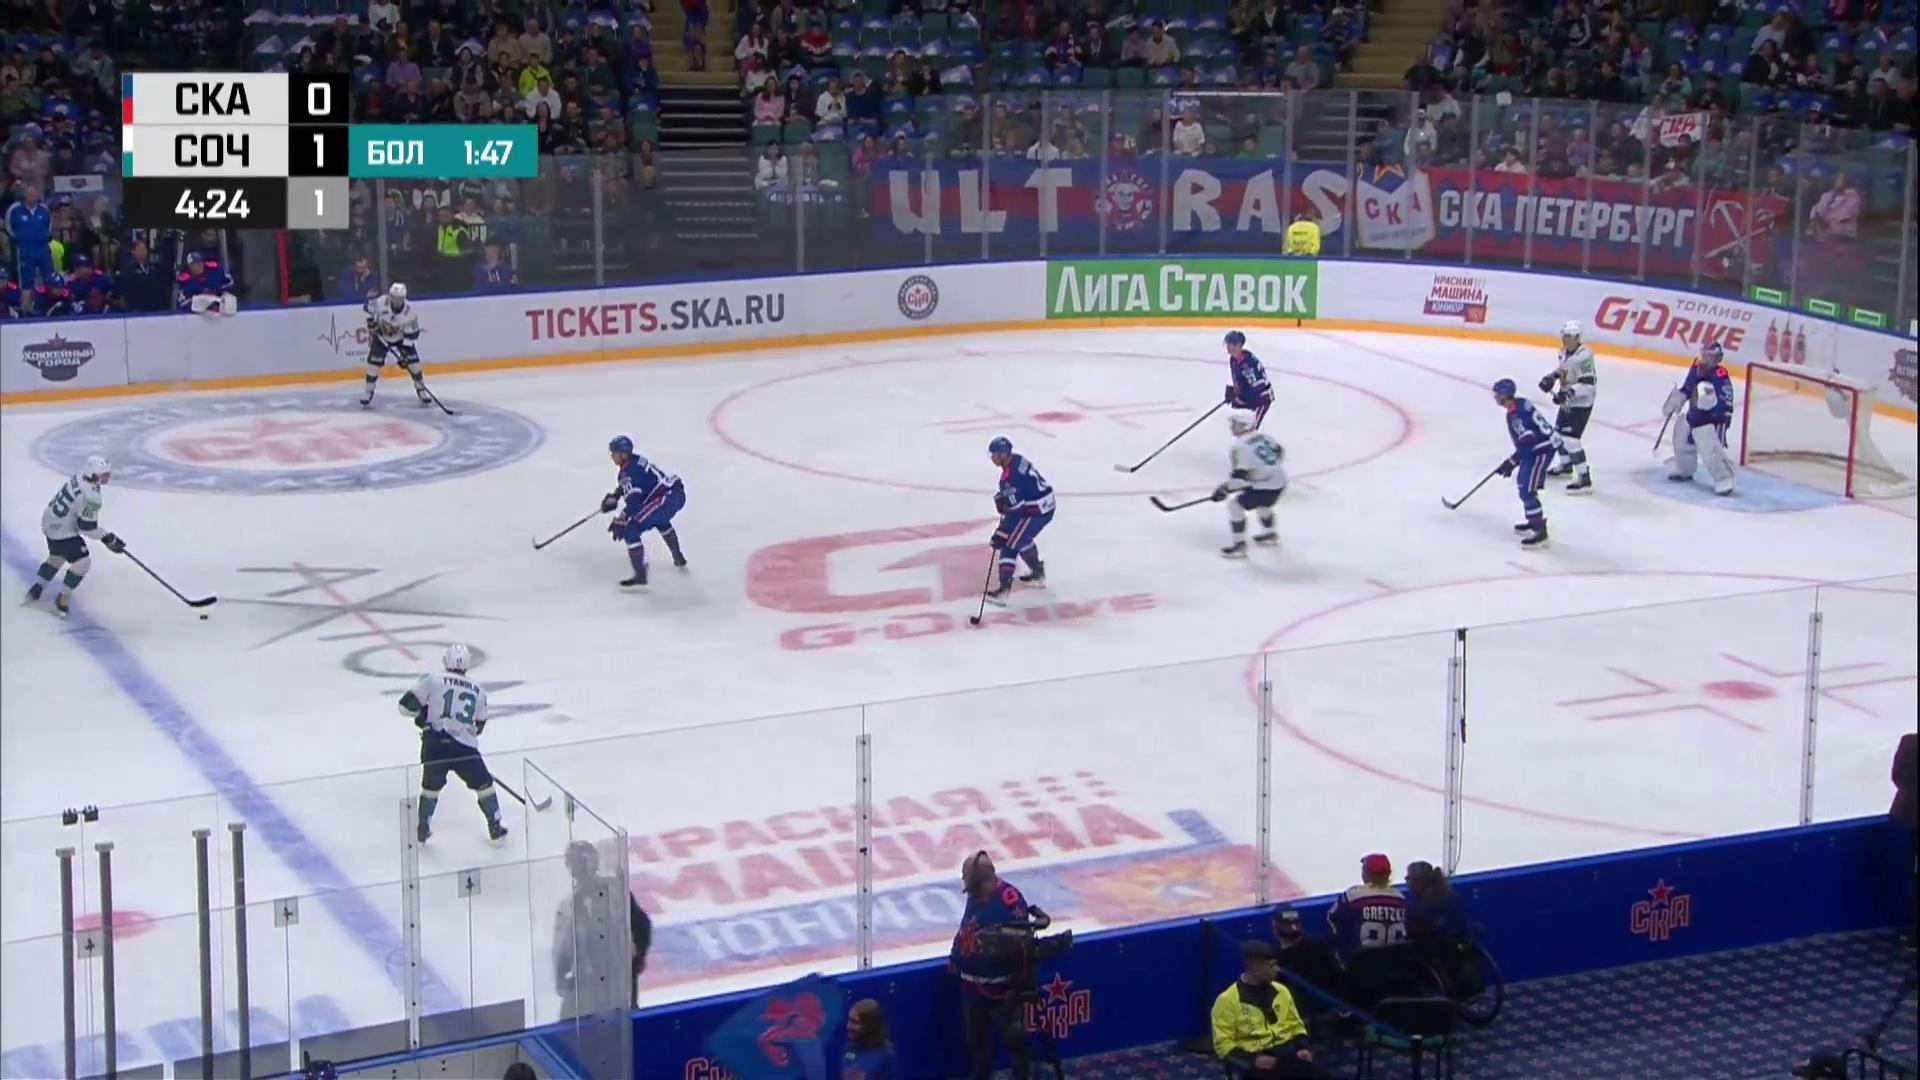ball: (199, 615, 208, 621)
